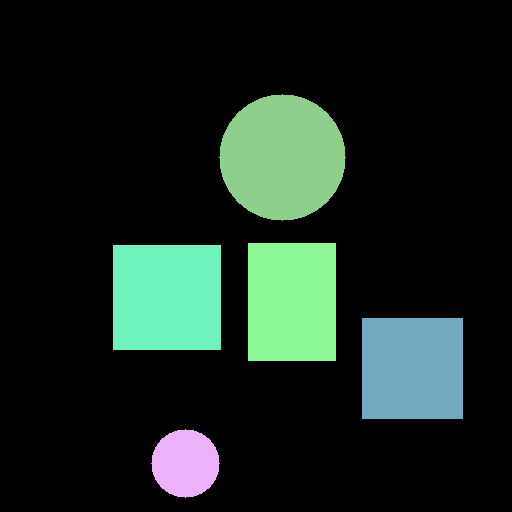circle: (219, 94, 345, 220), (151, 429, 219, 497)
rectangle: (248, 243, 335, 360)
square: (113, 245, 220, 349), (362, 318, 462, 418)
